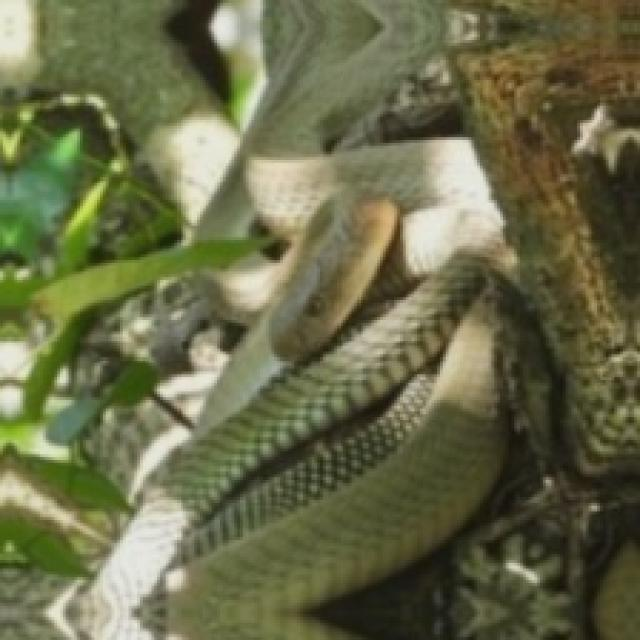king cobra: (85, 0, 511, 640)
